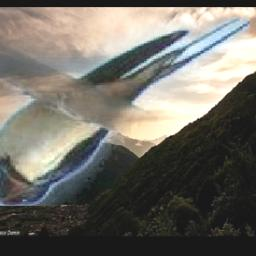Swallow: (0, 18, 250, 207)
